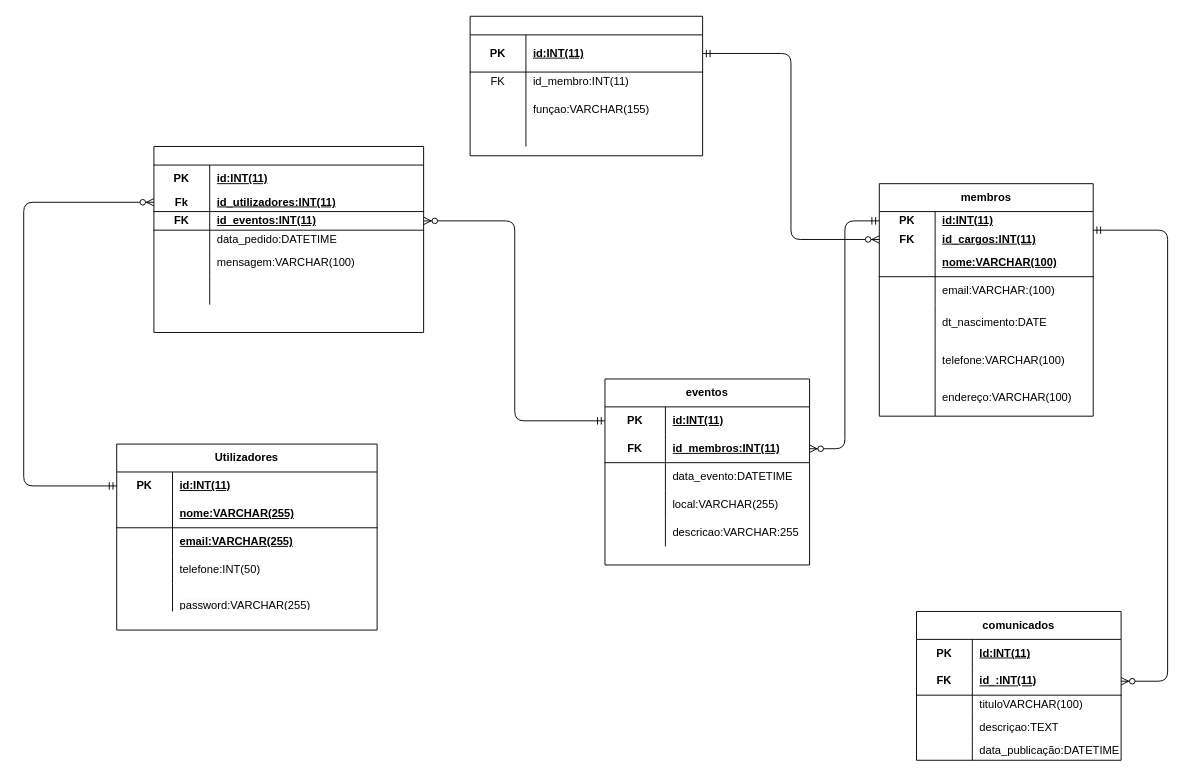
The diagram is 1192 pixels wide and 777 high, and some of its shapes have lost their labels. Each missing label, with the box of its shape:
Cargos: (469, 15, 703, 156)
pedidos oração: (153, 146, 424, 332)
